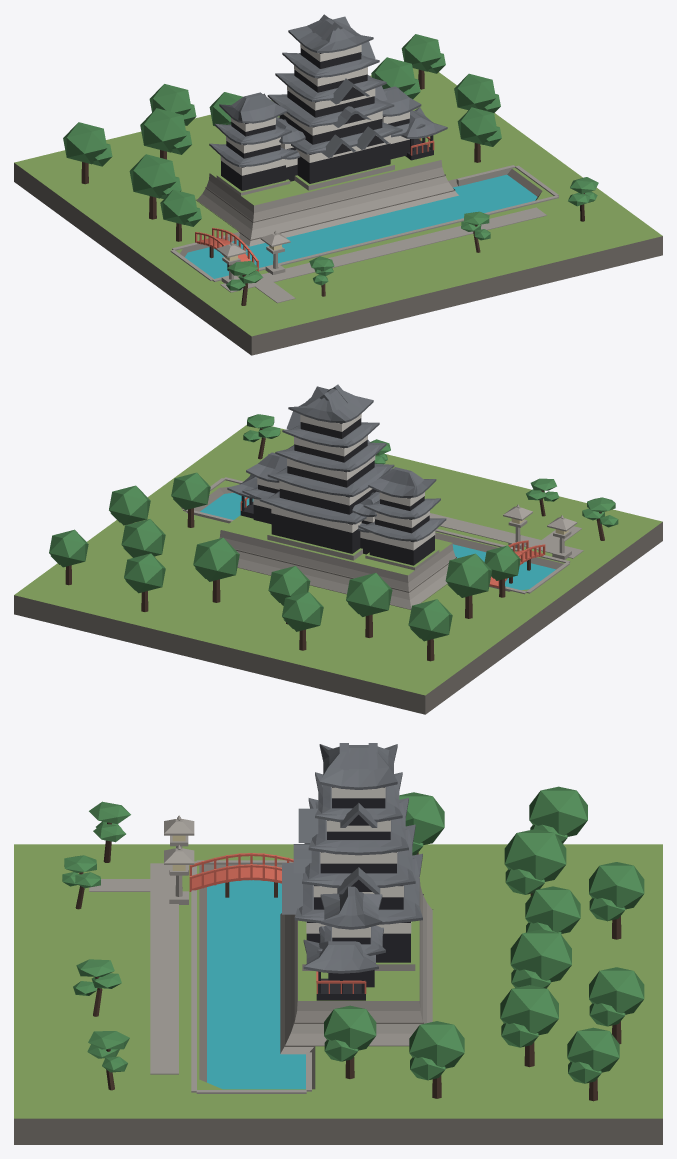
The model's file is matsumoto-castle.glb.
3 renders of one model, top to bottom at view 1: azimuth 30°, elevation 25°; view 2: azimuth 150°, elevation 25°; view 3: azimuth 270°, elevation 25°, orthographic. The views are drawn at different scales.
Visible parts, largest first — view 1: matsumoto_terrain, matsumoto_stone, matsumoto_foliage, matsumoto_darkstone, matsumoto_tile, matsumoto_water, matsumoto_black, matsumoto_plaster, matsumoto_bark, matsumoto_vermilion; view 2: matsumoto_terrain, matsumoto_foliage, matsumoto_darkstone, matsumoto_tile, matsumoto_stone, matsumoto_black, matsumoto_plaster, matsumoto_water, matsumoto_bark, matsumoto_vermilion; view 3: matsumoto_terrain, matsumoto_foliage, matsumoto_darkstone, matsumoto_stone, matsumoto_tile, matsumoto_water, matsumoto_black, matsumoto_plaster, matsumoto_vermilion, matsumoto_bark.
Boxes of the visible parts, x1,y1,x2,y2 form: matsumoto_terrain: (14,68,662,336); matsumoto_stone: (170,160,558,303); matsumoto_foliage: (63,34,598,290); matsumoto_darkstone: (14,163,662,355); matsumoto_tile: (209,14,447,166); matsumoto_water: (185,174,537,278); matsumoto_black: (221,48,433,190); matsumoto_plaster: (220,43,409,175); matsumoto_bark: (81,69,584,305); matsumoto_vermilion: (195,136,434,271); matsumoto_terrain: (14,425,662,695); matsumoto_foliage: (49,414,618,641); matsumoto_darkstone: (14,486,662,714); matsumoto_tile: (227,384,446,541); matsumoto_stone: (181,477,583,609); matsumoto_black: (240,418,434,565); matsumoto_plaster: (253,414,435,550); matsumoto_water: (200,493,555,590); matsumoto_bark: (65,428,604,661); matsumoto_vermilion: (240,497,545,588); matsumoto_terrain: (14,844,662,1118); matsumoto_foliage: (62,786,644,1083); matsumoto_darkstone: (14,864,662,1144); matsumoto_stone: (89,815,432,1093); matsumoto_tile: (282,743,422,973); matsumoto_water: (207,880,305,1089); matsumoto_black: (306,787,410,1000); matsumoto_plaster: (306,787,411,937); matsumoto_vermilion: (189,853,366,993); matsumoto_bark: (75,822,621,1101).
Bounding box in the file's own units: 22.4 × 10.08 × 22.4.
